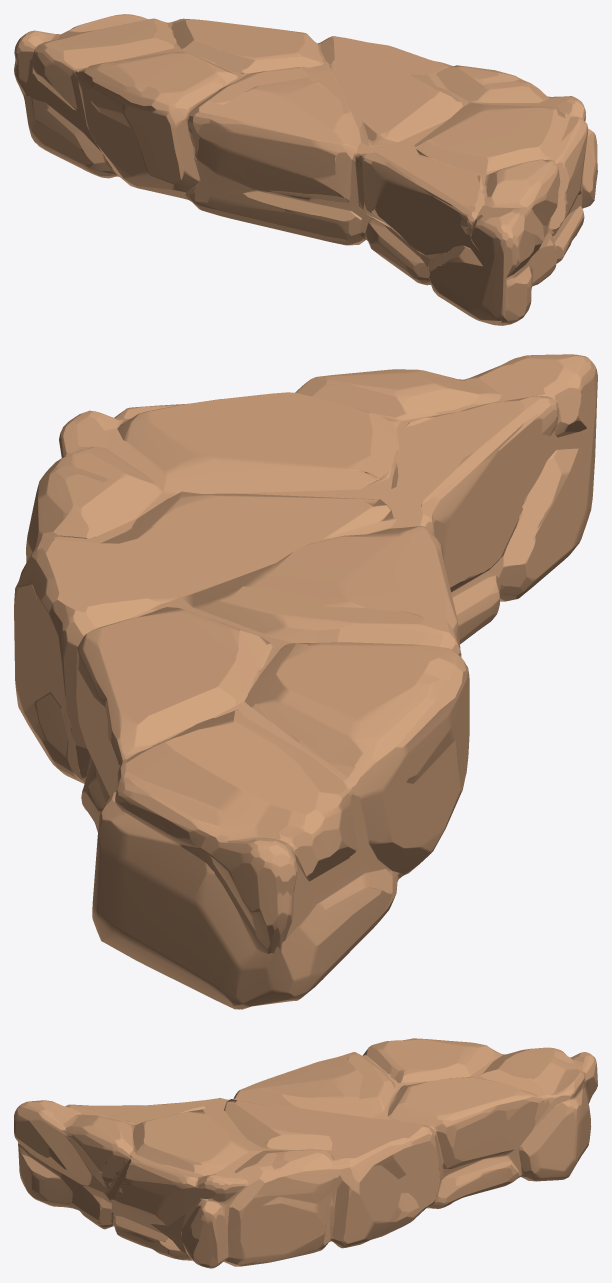
3 renders of one model, top to bottom at view 1: azimuth 30°, elevation 25°; view 2: azimuth 150°, elevation 25°; view 3: azimuth 270°, elevation 25°, orthographic. The views are drawn at different scales.
Parts seen in each view (by area): view 1: Mesh_11_LOD0; view 2: Mesh_11_LOD0; view 3: Mesh_11_LOD0.
Part boxes in pixels (left/top/right/bottom): Mesh_11_LOD0: left=14, top=14, right=597, bottom=325; Mesh_11_LOD0: left=14, top=354, right=597, bottom=1009; Mesh_11_LOD0: left=14, top=1038, right=597, bottom=1268.
Size of what is drawn, in the model's own units: 2794 by 962 by 4626.
